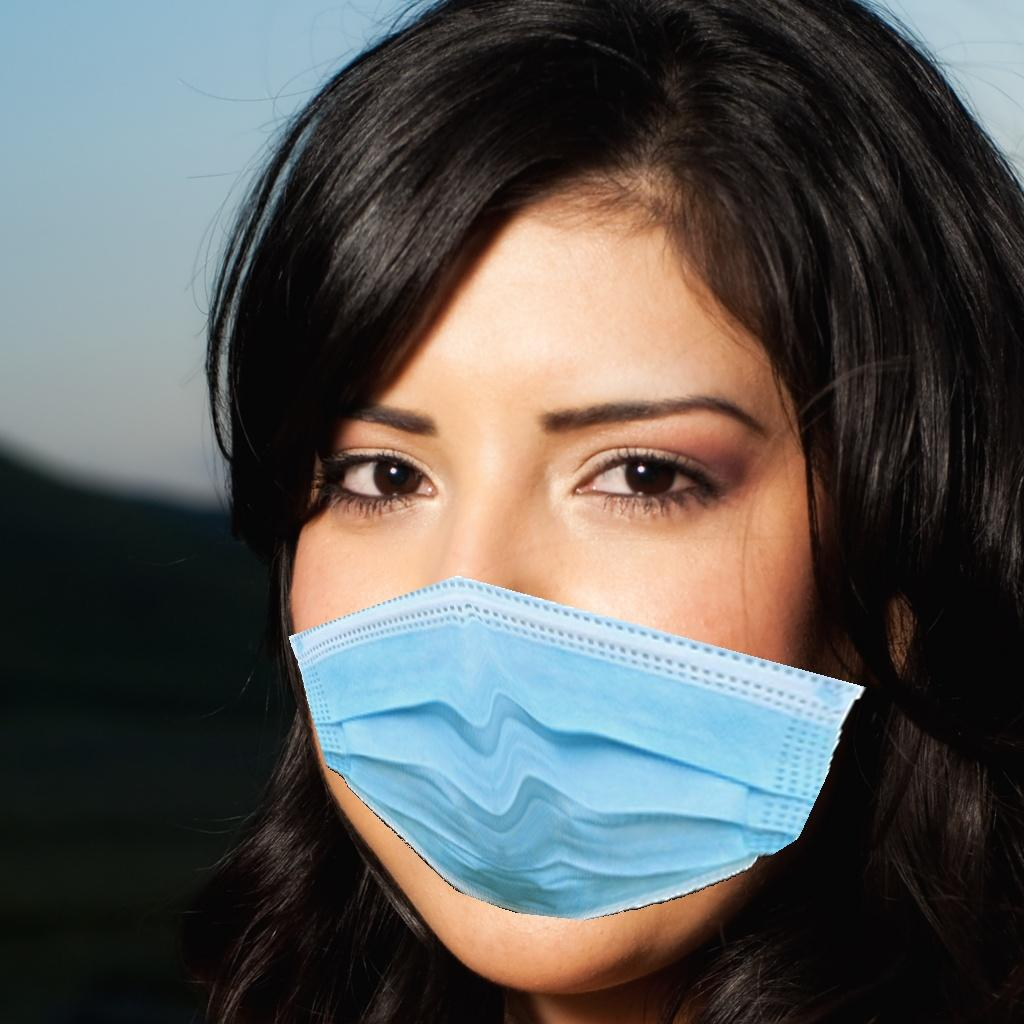Máscara Incorreta: (255, 204, 858, 950)
